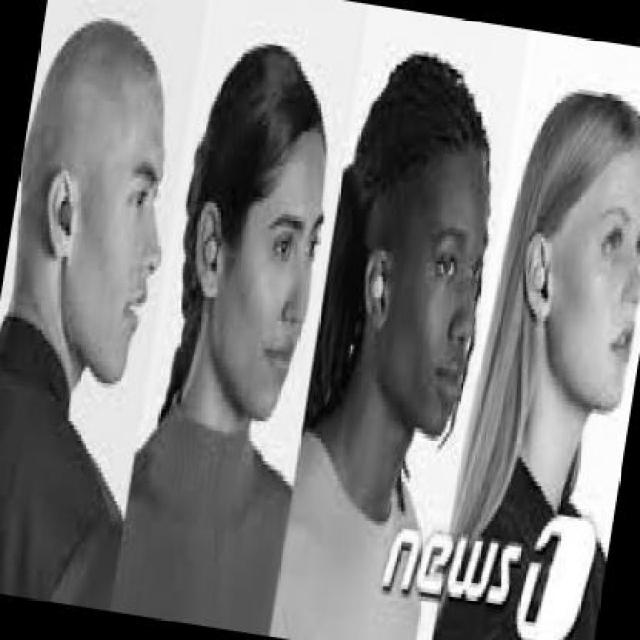earphone: (354, 268, 407, 312), (46, 186, 92, 235), (196, 225, 225, 272), (527, 257, 549, 304)
